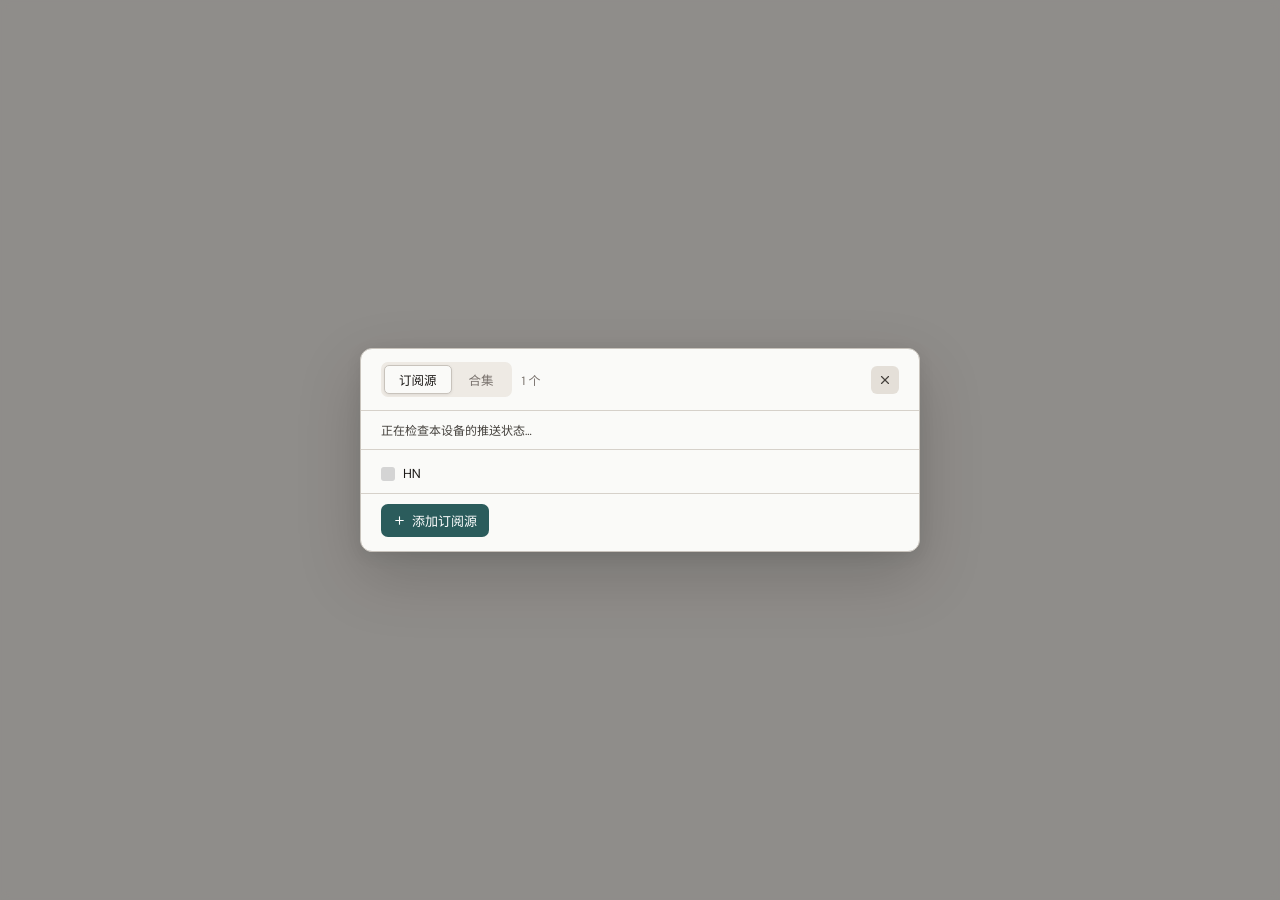
Test case: ManageModal sub-views › hides the tab bar while a sub-view is open
The width and height of the screenshot is (1280, 900).
Click the button "添加订阅源". click: click(435, 520)
box: [381,504,489,537]
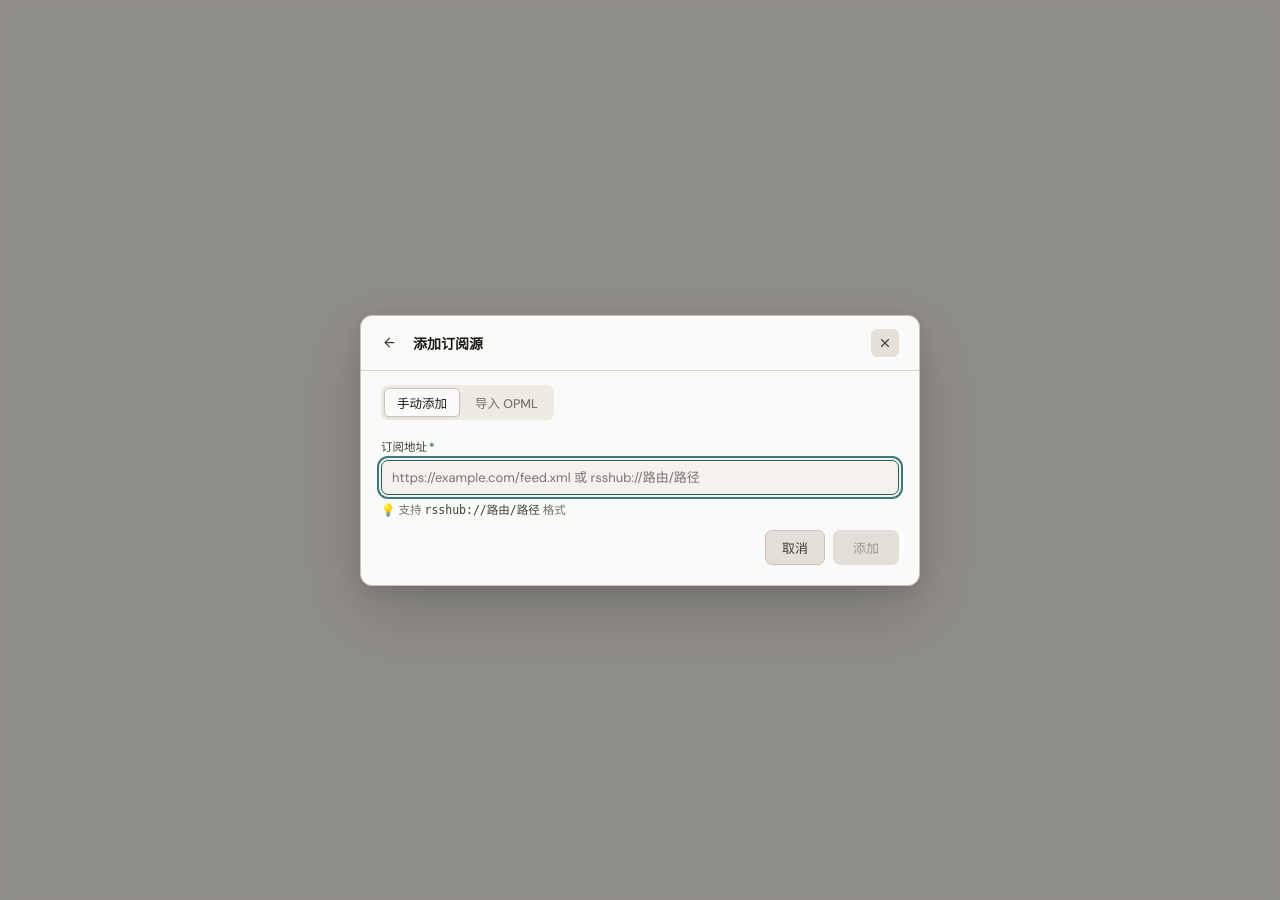
Check: the text "添加订阅源" is shown, box [413,334,483,352]
Check: the button "合集" is gone
